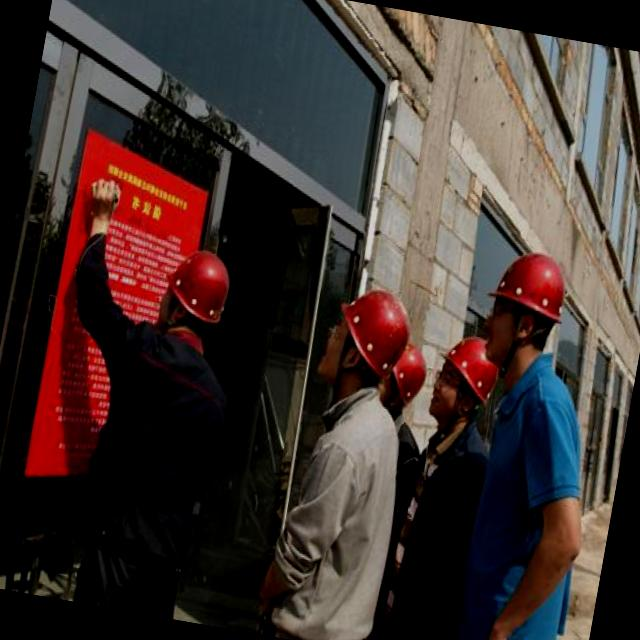helmet: (326, 279, 422, 378), (160, 243, 248, 332), (485, 246, 575, 328)
no-vest: (38, 320, 244, 589), (446, 358, 594, 640), (252, 387, 412, 640)
